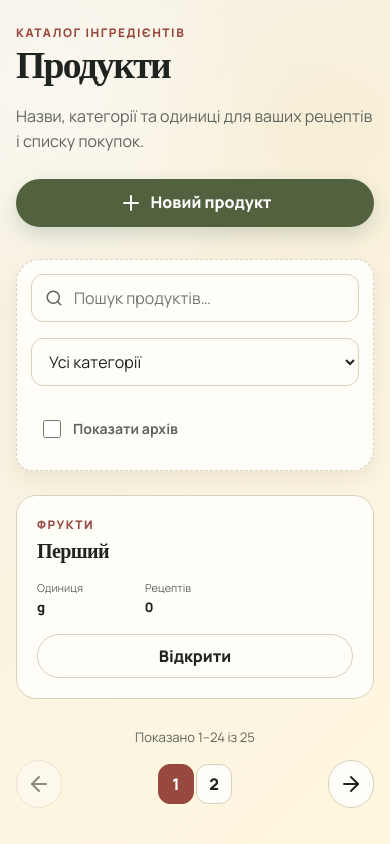
it: ProductsPage › paginates the product catalogue through the repository page contract
Expected: the heading "Перший" is shown, [37,543,109,563]
Click the button named "Перейти на наступну сторінку" at x=351, y=784, box [328,760,374,808]
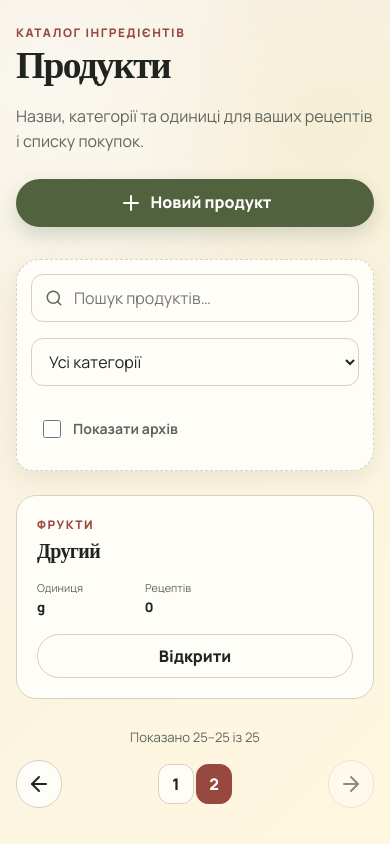
Now the heading "Другий" is shown, box [37,543,100,563]
